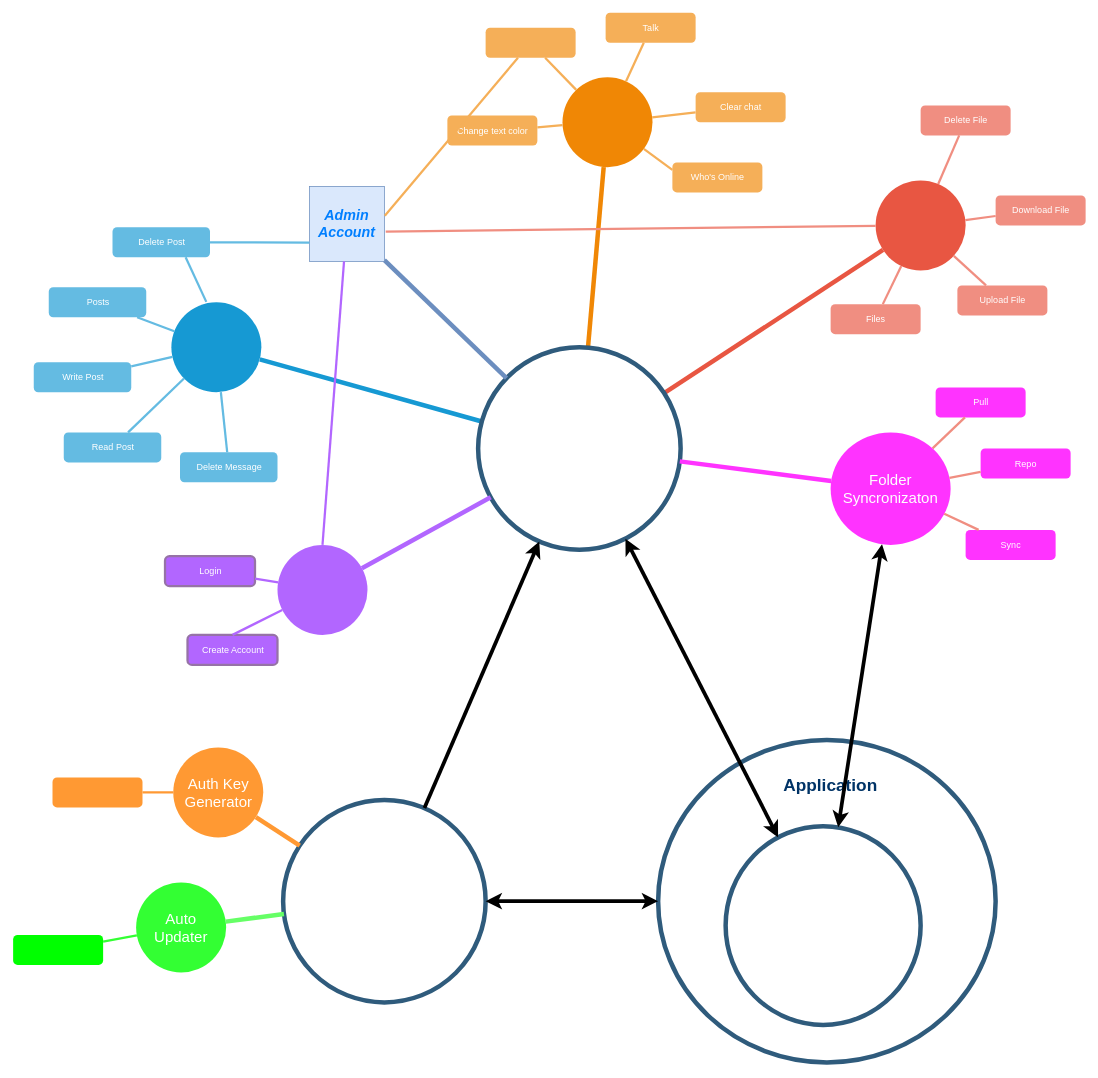
Some shapes in this 1098 by 1078 pixel diagram are drawn without their labels. The shapes that lost their labels are listed below. From the top down, each one's box as (x1, y1, x2, y2) in pixels, then its label:
(485, 27, 575, 57): Kick user
(562, 77, 652, 167): Global Chat
(875, 180, 965, 270): Files Repository
(171, 302, 261, 392): Forum
(476, 345, 682, 552): Application Server
(277, 544, 367, 634): Accounts
(52, 777, 142, 807): Generate Serial
(280, 797, 488, 1004): Authentication Server
(723, 824, 922, 1027): Client
(13, 934, 103, 964): Update Client
